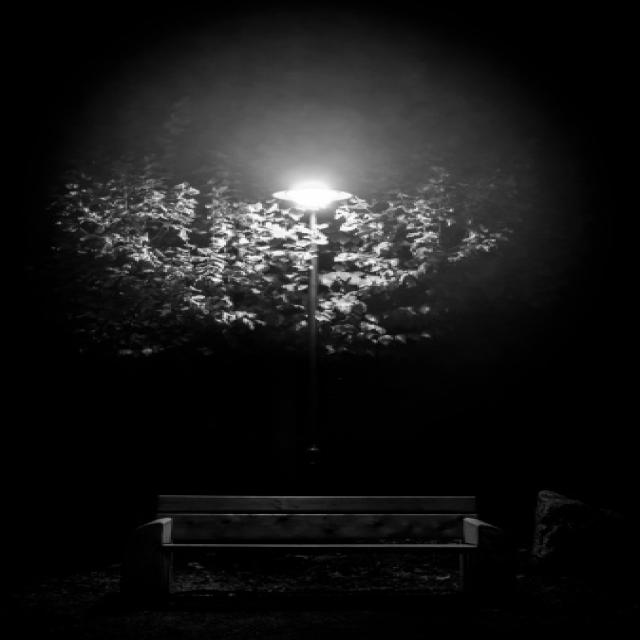chair: (102, 478, 568, 632)
